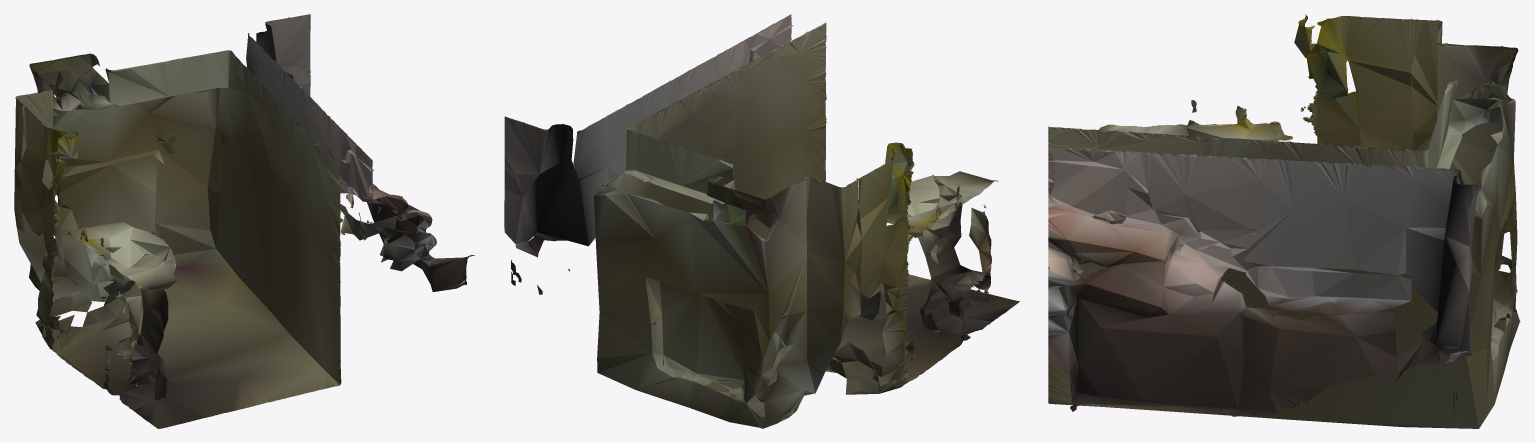
File: coarse.glb
The picture shows the model from 3 angles, left to right: view 1: azimuth 30°, elevation 25°; view 2: azimuth 150°, elevation 25°; view 3: azimuth 270°, elevation 25°; orthographic projection. The views are drawn at different scales.
Size of the model in its own units: 2.15 by 1.43 by 2.17.
